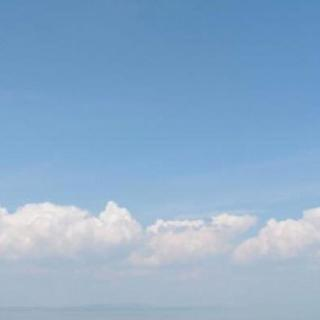Cumulus: (0, 189, 320, 320)
